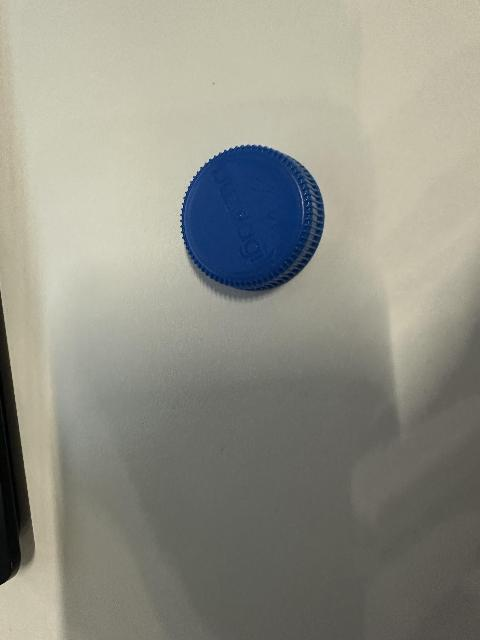Plastik: (176, 148, 330, 287)
